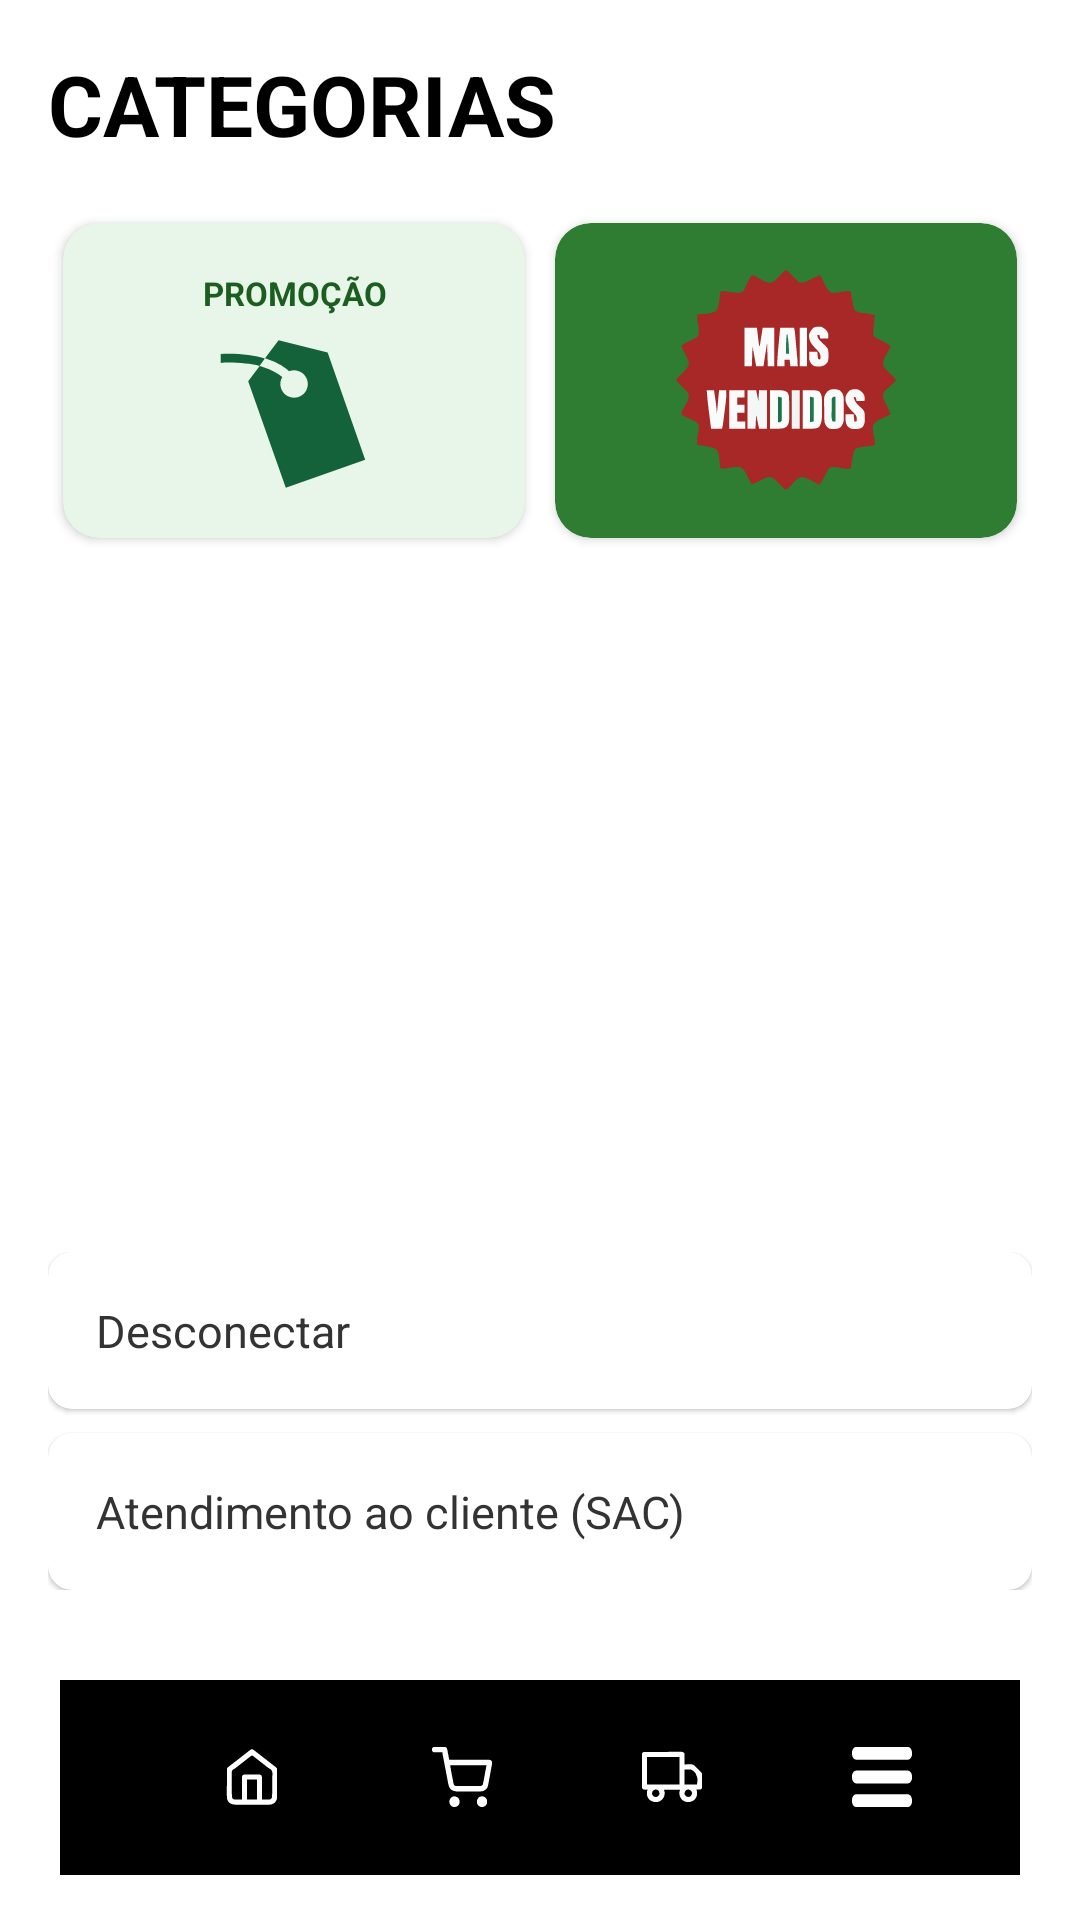

Locate icon controls on the screen. Image size 1080 x 1920, boxes as (x1, y1, x2, y2).
nvbar carrinho: (432, 1747, 492, 1807)
nvbar home: (226, 1749, 277, 1805)
nvbar menu: (852, 1747, 912, 1807)
nvbar truck: (642, 1751, 702, 1802)
